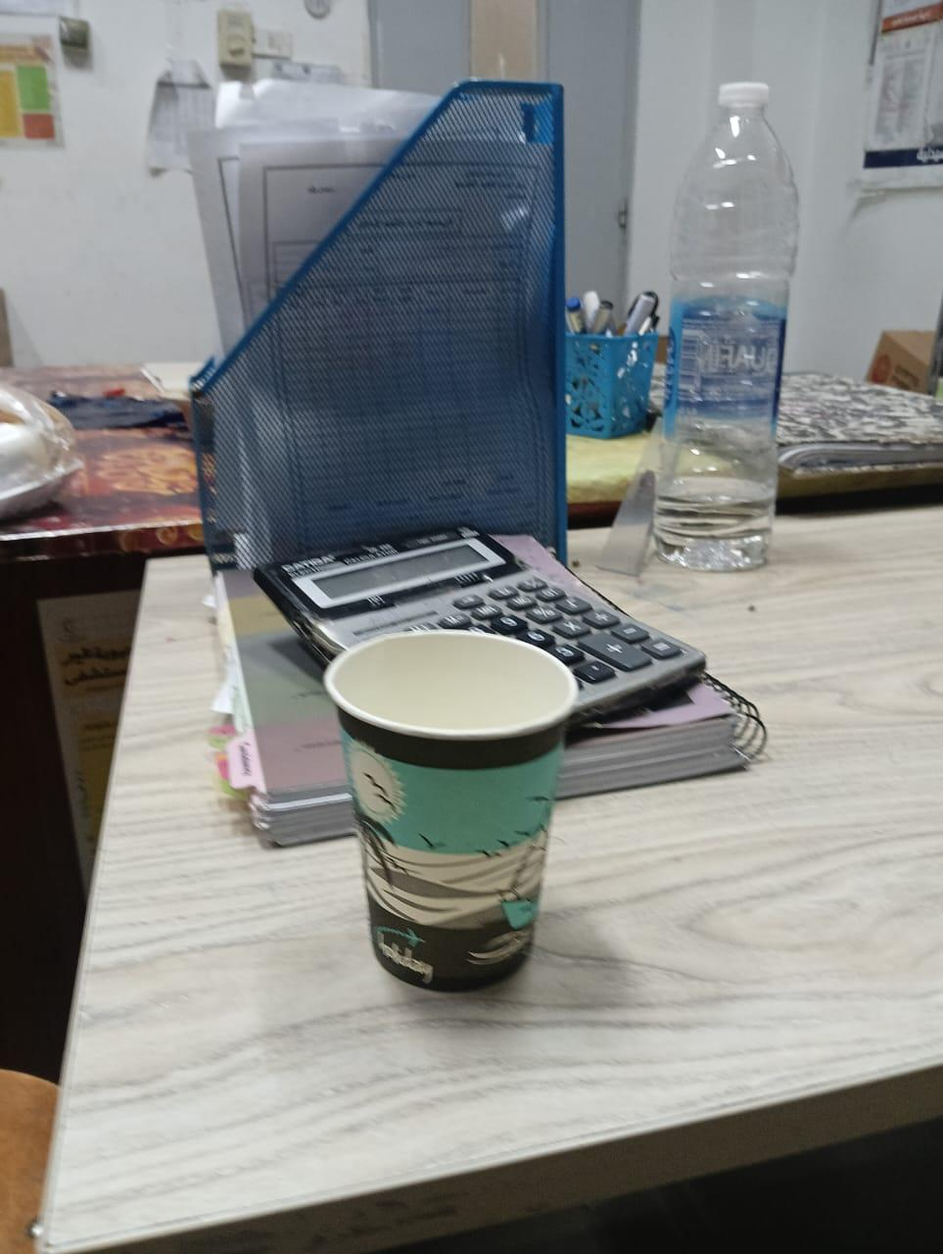cup: (324, 630, 577, 989), (325, 632, 577, 764)
